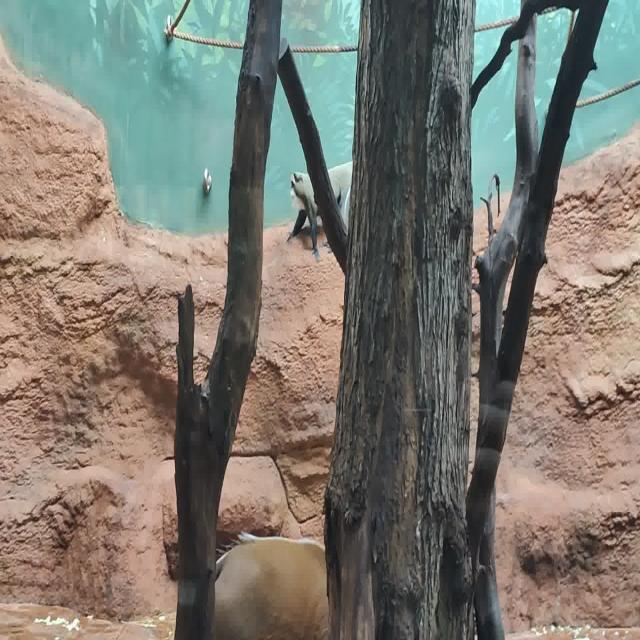boar: (213, 529, 329, 640), (286, 160, 352, 258)
